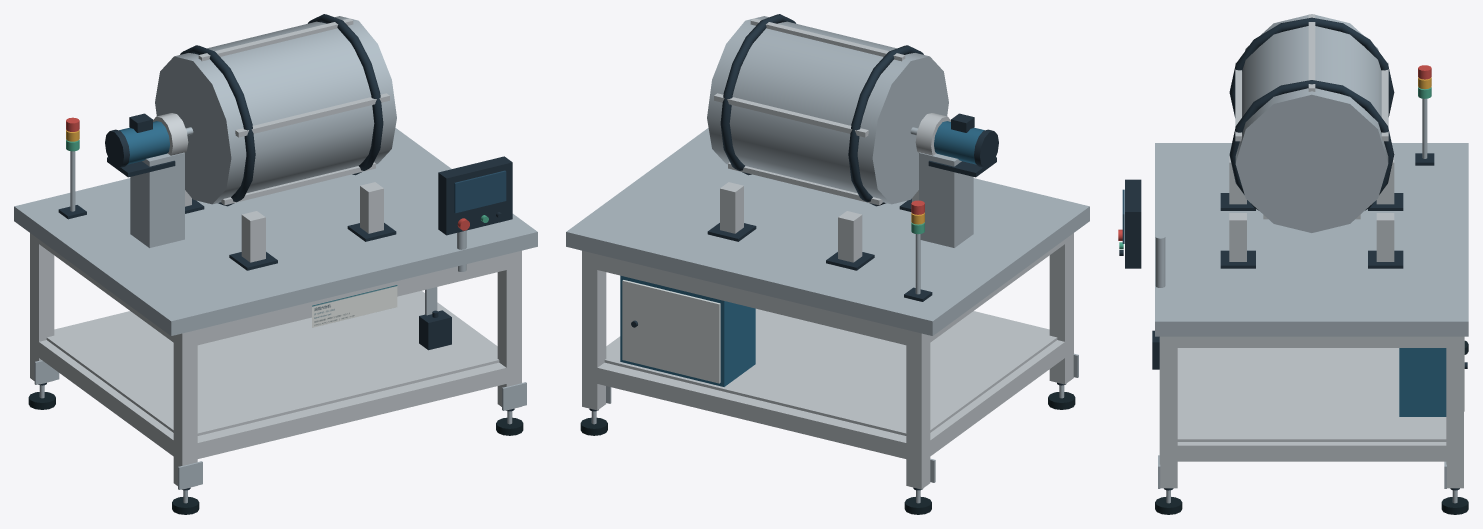
Rendered from barrel-finisher-cell.glb.
The picture shows the model from 3 angles, left to right: view 1: azimuth 30°, elevation 25°; view 2: azimuth 150°, elevation 25°; view 3: azimuth 270°, elevation 25°; orthographic projection.
Visible parts, largest first — view 1: ClosedMachineBed_28, LowerShelf_29, DrumShell_56, SlottedExtrusion_22, DrumDriveStand_71, SlottedExtrusion_23, SlottedExtrusion_8, SlottedExtrusion_24, ConsoleBack_34, SlottedExtrusion_18, SlottedExtrusion_3, OriginalNameplate_42 (+15 smaller); view 2: ClosedMachineBed_28, DrumShell_56, LowerShelf_29, BackDoor_31, SlottedExtrusion_20, SlottedExtrusion_21, DrumDriveStand_71, SlottedExtrusion_3, Cabinet_30, SlottedExtrusion_13, SlottedExtrusion_24, SlottedExtrusion_8 (+11 smaller); view 3: ClosedMachineBed_28, DrumShell_56, LowerShelf_29, SlottedExtrusion_26, SlottedExtrusion_27, Cabinet_30, SlottedExtrusion_18, SlottedExtrusion_13, DrumBand_58, DrumBand_57, ConsoleBack_34, SlottedExtrusion_52 (+11 smaller).
Boxes of the visible parts, bbox=[...] form: ClosedMachineBed_28: bbox=[14, 128, 537, 335]; LowerShelf_29: bbox=[46, 292, 499, 435]; DrumShell_56: bbox=[155, 16, 396, 204]; SlottedExtrusion_22: bbox=[190, 362, 506, 460]; DrumDriveStand_71: bbox=[130, 152, 184, 247]; SlottedExtrusion_23: bbox=[190, 254, 506, 346]; SlottedExtrusion_8: bbox=[173, 330, 197, 489]; SlottedExtrusion_24: bbox=[35, 340, 177, 459]; ConsoleBack_34: bbox=[438, 156, 512, 235]; SlottedExtrusion_18: bbox=[497, 250, 521, 410]; SlottedExtrusion_3: bbox=[30, 233, 54, 384]; OriginalNameplate_42: bbox=[312, 285, 397, 327]; ClosedMachineBed_28: bbox=[566, 128, 1089, 335]; DrumShell_56: bbox=[707, 16, 948, 204]; LowerShelf_29: bbox=[604, 308, 1057, 435]; BackDoor_31: bbox=[622, 280, 720, 383]; SlottedExtrusion_20: bbox=[597, 362, 913, 460]; SlottedExtrusion_21: bbox=[593, 254, 913, 346]; DrumDriveStand_71: bbox=[919, 152, 973, 247]; SlottedExtrusion_3: bbox=[906, 330, 930, 489]; Cabinet_30: bbox=[620, 275, 755, 386]; SlottedExtrusion_13: bbox=[582, 250, 606, 410]; SlottedExtrusion_24: bbox=[930, 339, 1069, 456]; SlottedExtrusion_8: bbox=[1049, 233, 1073, 384]; ClosedMachineBed_28: bbox=[1155, 143, 1468, 336]; DrumShell_56: bbox=[1235, 14, 1388, 232]; LowerShelf_29: bbox=[1177, 348, 1446, 441]; SlottedExtrusion_26: bbox=[1168, 442, 1455, 461]; SlottedExtrusion_27: bbox=[1168, 336, 1455, 347]; Cabinet_30: bbox=[1399, 348, 1446, 416]; SlottedExtrusion_18: bbox=[1159, 336, 1177, 488]; SlottedExtrusion_13: bbox=[1446, 336, 1463, 488]; DrumBand_58: bbox=[1229, 80, 1394, 210]; DrumBand_57: bbox=[1229, 17, 1394, 117]; ConsoleBack_34: bbox=[1125, 179, 1141, 268]; SlottedExtrusion_52: bbox=[1376, 213, 1394, 261].
Size of the model in its own units: 1.55 by 1.54 by 1.29.
11 materials, 1 textured.
